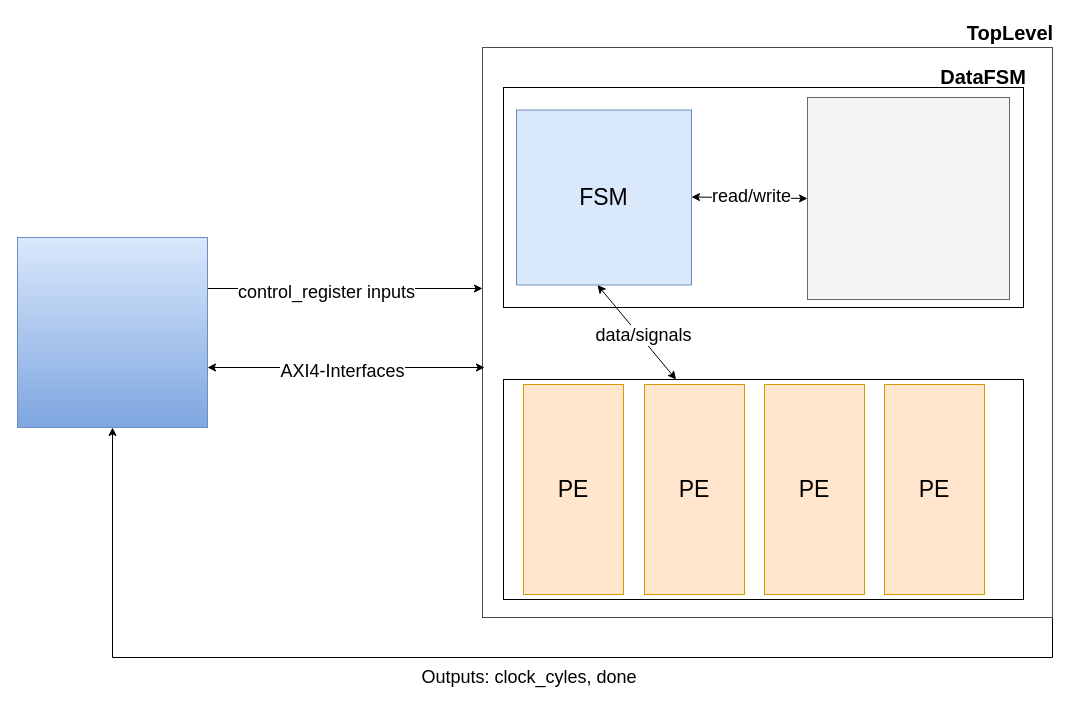
This 1078x724 diagram has some shape labels left out. Each missing label, with the box of its shape:
BRAM: (806, 96, 1010, 300)
WrapGEMM: (16, 236, 208, 428)
